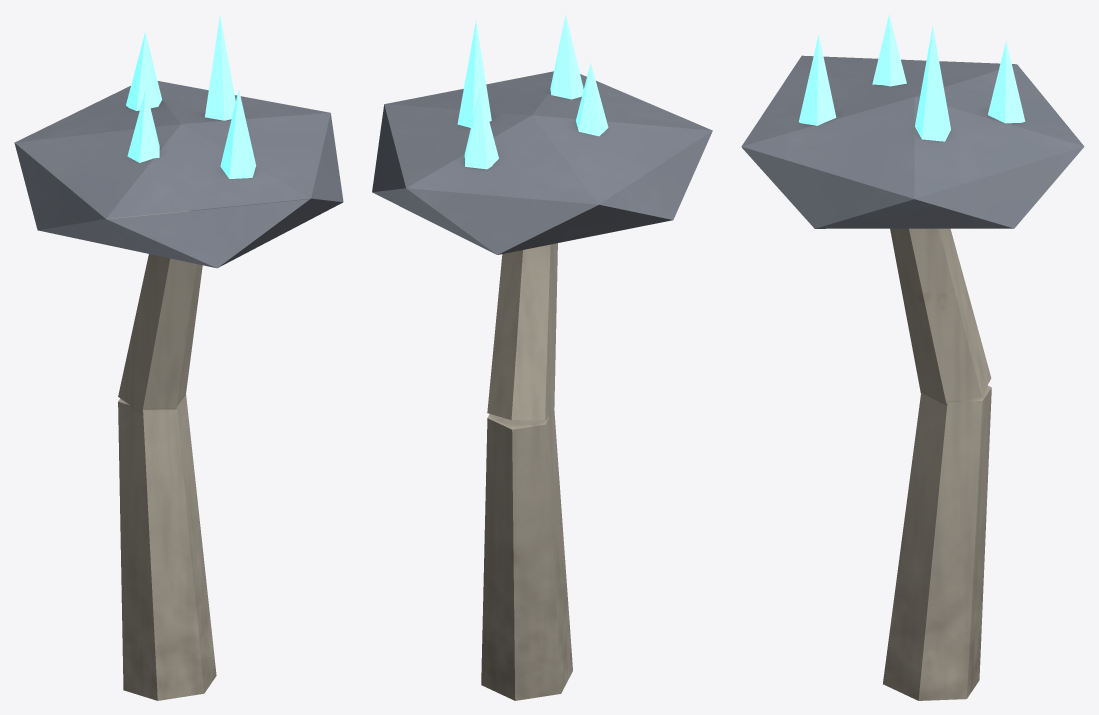
The model's file is arv_fungo_cristal_2.glb.
The picture shows the model from 3 angles, left to right: view 1: azimuth 30°, elevation 25°; view 2: azimuth 150°, elevation 25°; view 3: azimuth 270°, elevation 25°; orthographic projection. The views are drawn at different scales.
Parts seen in each view (by area): view 1: arv_fungo_cristal_2; view 2: arv_fungo_cristal_2; view 3: arv_fungo_cristal_2.
Part boxes in pixels (x1,y1,x2,y2): arv_fungo_cristal_2: (14, 14, 343, 700); arv_fungo_cristal_2: (372, 14, 712, 700); arv_fungo_cristal_2: (741, 14, 1084, 700).
Size of the model in its own units: 0.7703 by 1.66 by 0.75.
2 materials, 1 textured.
